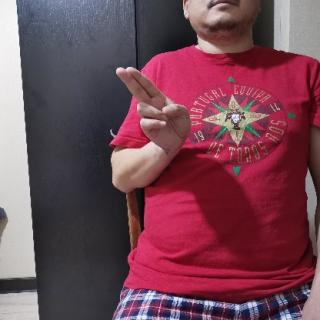TA: (112, 63, 194, 158)
